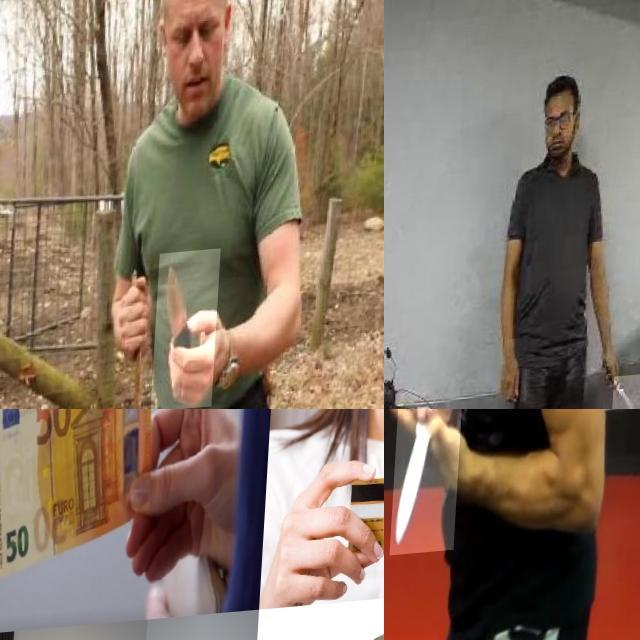-: (395, 409, 470, 562), (156, 254, 224, 409), (618, 380, 640, 409)
